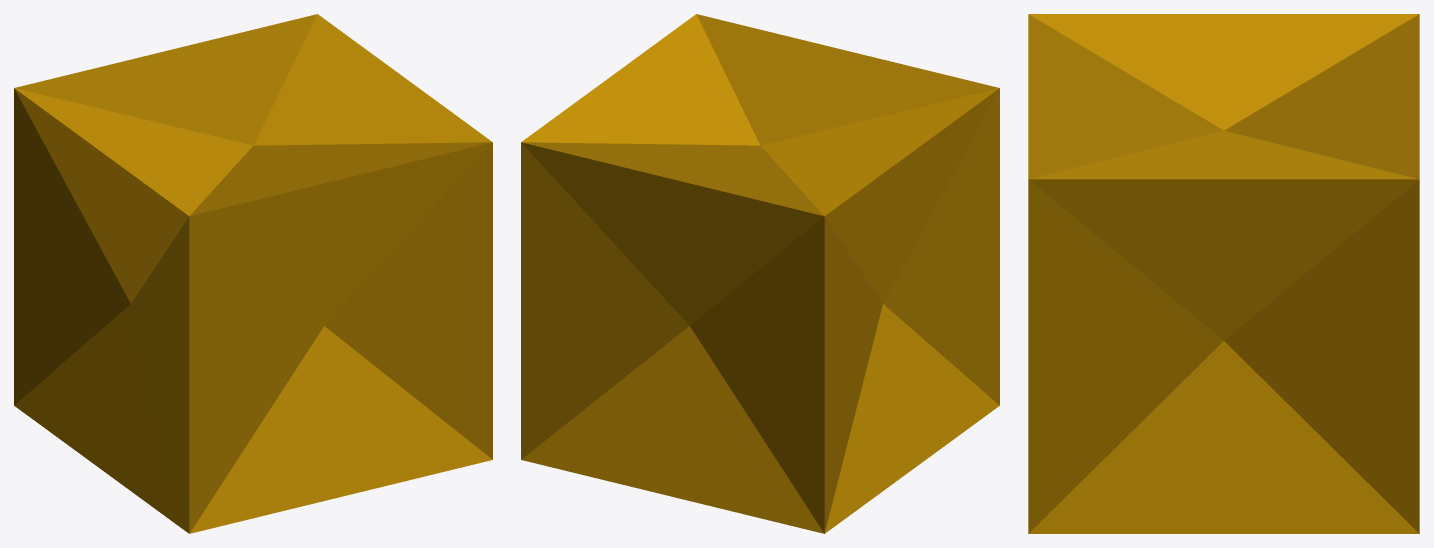
The model's file is wooden_box.glb.
3 views of the same model, side by side, from view 1: azimuth 30°, elevation 25°; view 2: azimuth 150°, elevation 25°; view 3: azimuth 270°, elevation 25° (orthographic). The views are drawn at different scales.
Visible parts, largest first — view 1: imagetostl_mesh2, imagetostl_mesh1, imagetostl_mesh0, imagetostl_mesh15, imagetostl_mesh19, imagetostl_mesh20, imagetostl_mesh16, imagetostl_mesh5, imagetostl_mesh17, imagetostl_mesh4, imagetostl_mesh18, imagetostl_mesh3; view 2: imagetostl_mesh10, imagetostl_mesh9, imagetostl_mesh7, imagetostl_mesh8, imagetostl_mesh18, imagetostl_mesh3, imagetostl_mesh16, imagetostl_mesh5, imagetostl_mesh17, imagetostl_mesh4, imagetostl_mesh19, imagetostl_mesh20; view 3: imagetostl_mesh12, imagetostl_mesh11, imagetostl_mesh14, imagetostl_mesh13, imagetostl_mesh4, imagetostl_mesh3, imagetostl_mesh20, imagetostl_mesh5.
Part boxes in pixels (x1=…): imagetostl_mesh2: x1=324, y1=142, x2=492, y2=459; imagetostl_mesh1: x1=189, y1=326, x2=492, y2=533; imagetostl_mesh0: x1=190, y1=142, x2=492, y2=325; imagetostl_mesh15: x1=189, y1=216, x2=323, y2=533; imagetostl_mesh19: x1=14, y1=88, x2=130, y2=405; imagetostl_mesh20: x1=15, y1=14, x2=317, y2=145; imagetostl_mesh16: x1=14, y1=304, x2=189, y2=533; imagetostl_mesh5: x1=253, y1=14, x2=492, y2=145; imagetostl_mesh17: x1=14, y1=88, x2=188, y2=303; imagetostl_mesh4: x1=14, y1=88, x2=252, y2=216; imagetostl_mesh18: x1=131, y1=217, x2=189, y2=532; imagetostl_mesh3: x1=190, y1=142, x2=491, y2=215; imagetostl_mesh10: x1=521, y1=142, x2=689, y2=459; imagetostl_mesh9: x1=521, y1=326, x2=824, y2=533; imagetostl_mesh7: x1=521, y1=142, x2=823, y2=325; imagetostl_mesh8: x1=690, y1=216, x2=824, y2=533; imagetostl_mesh18: x1=883, y1=88, x2=999, y2=405; imagetostl_mesh3: x1=696, y1=14, x2=998, y2=145; imagetostl_mesh16: x1=824, y1=304, x2=999, y2=533; imagetostl_mesh5: x1=521, y1=14, x2=760, y2=145; imagetostl_mesh17: x1=825, y1=88, x2=999, y2=303; imagetostl_mesh4: x1=761, y1=88, x2=999, y2=216; imagetostl_mesh19: x1=824, y1=217, x2=882, y2=532; imagetostl_mesh20: x1=522, y1=142, x2=823, y2=215; imagetostl_mesh12: x1=1029, y1=341, x2=1418, y2=533; imagetostl_mesh11: x1=1224, y1=179, x2=1419, y2=533; imagetostl_mesh14: x1=1028, y1=179, x2=1223, y2=533; imagetostl_mesh13: x1=1029, y1=179, x2=1418, y2=340; imagetostl_mesh4: x1=1029, y1=14, x2=1418, y2=130; imagetostl_mesh3: x1=1028, y1=14, x2=1223, y2=179; imagetostl_mesh20: x1=1224, y1=14, x2=1419, y2=179; imagetostl_mesh5: x1=1029, y1=131, x2=1418, y2=179.
Size of the model in its own units: 19.69 by 19.69 by 19.69.
